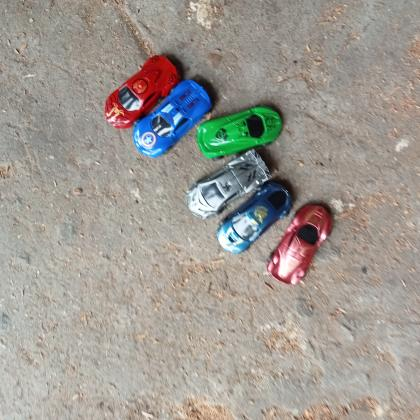Car: (131, 79, 214, 159), (184, 146, 272, 220), (266, 203, 335, 287), (104, 54, 180, 129), (215, 182, 292, 255), (195, 104, 283, 160)
